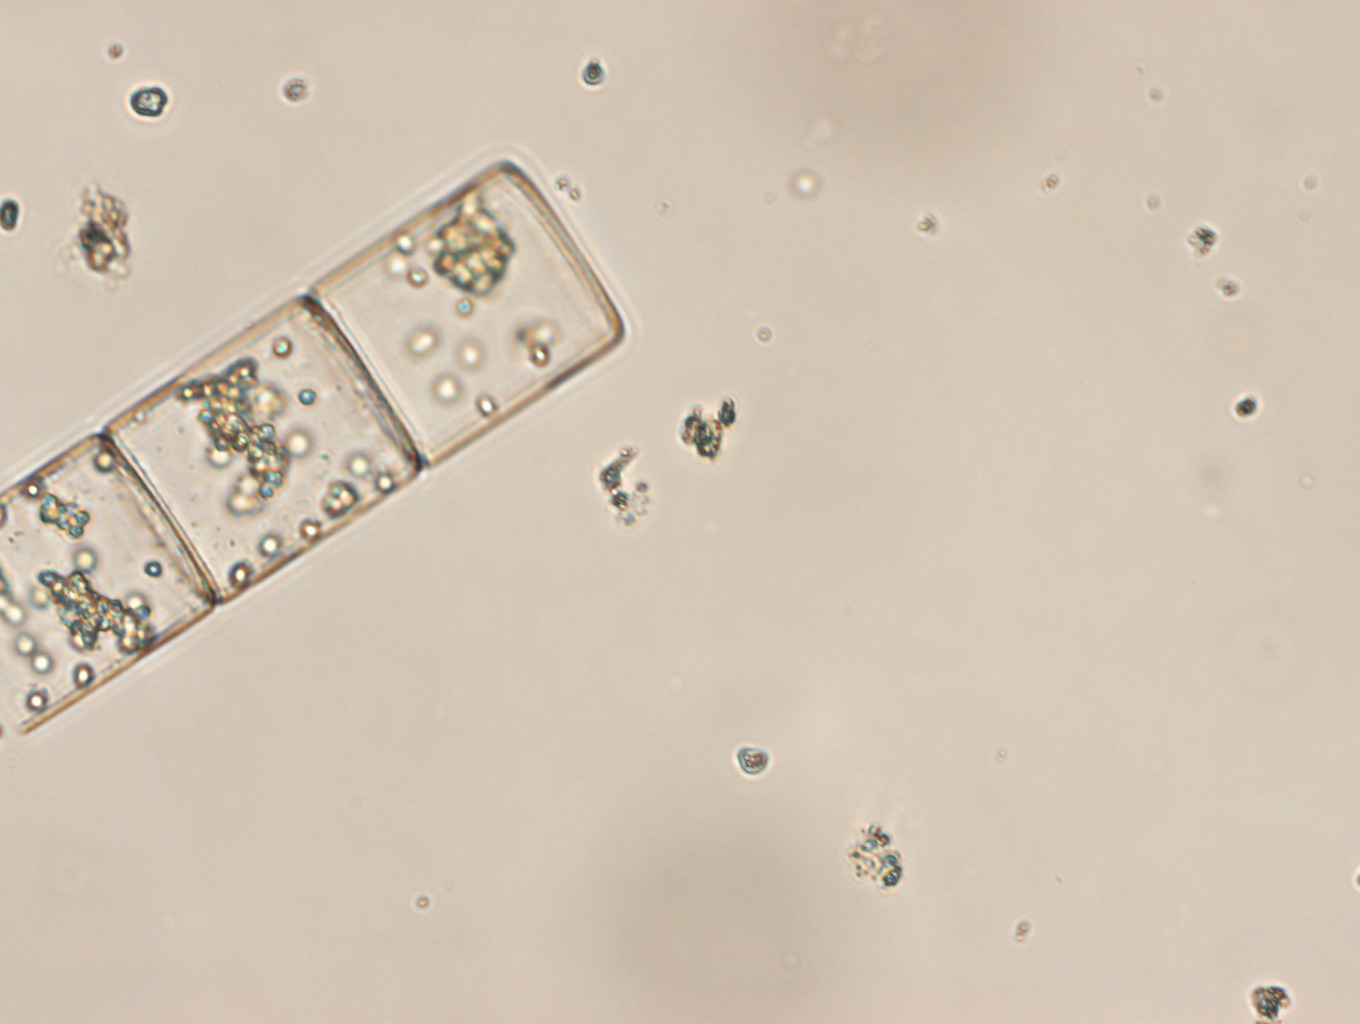guinardia flaccida: (1, 154, 627, 741)
